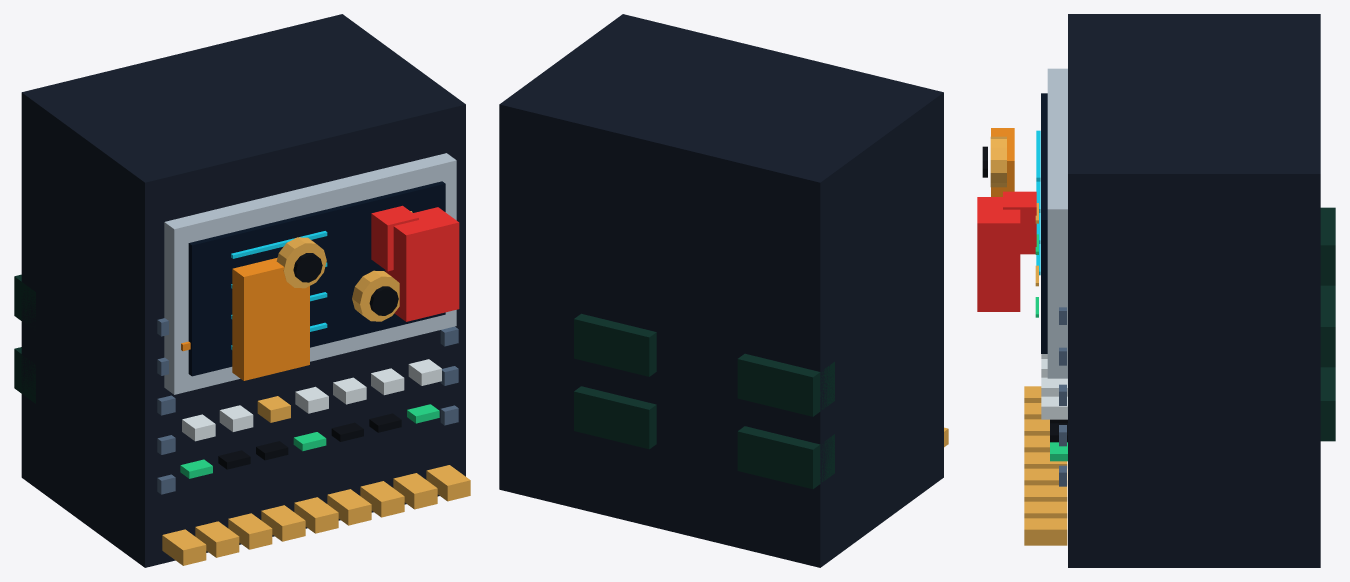
Rendered from 84_L91_EphemerisMismatchFaultInjector.fbx.
3 renders of one model, left to right at view 1: azimuth 30°, elevation 25°; view 2: azimuth 150°, elevation 25°; view 3: azimuth 270°, elevation 25°, orthographic. The views are drawn at different scales.
Parts seen in each view (by area): view 1: L91_EphemerisMismatchFaultInjector, L91_EphemerisMismatchFaultInjector_Part_0013, L91_EphemerisMismatchFaultInjector_Part_0017, L91_EphemerisMismatchFaultInjector_Part_0015, L91_EphemerisMismatchFaultInjector_Part_0016, L91_EphemerisMismatchFaultInjector_Part_0018; view 2: L91_EphemerisMismatchFaultInjector; view 3: L91_EphemerisMismatchFaultInjector, L91_EphemerisMismatchFaultInjector_Part_0013, L91_EphemerisMismatchFaultInjector_Part_0015.
Boxes of the visible parts, x1,y1,x2,y2 form: L91_EphemerisMismatchFaultInjector: (14, 14, 470, 567); L91_EphemerisMismatchFaultInjector_Part_0013: (385, 207, 459, 321); L91_EphemerisMismatchFaultInjector_Part_0017: (352, 270, 399, 321); L91_EphemerisMismatchFaultInjector_Part_0015: (276, 237, 326, 288); L91_EphemerisMismatchFaultInjector_Part_0016: (293, 253, 322, 282); L91_EphemerisMismatchFaultInjector_Part_0018: (369, 286, 398, 315); L91_EphemerisMismatchFaultInjector: (499, 14, 948, 567); L91_EphemerisMismatchFaultInjector: (991, 14, 1335, 567); L91_EphemerisMismatchFaultInjector_Part_0013: (977, 197, 1020, 311); L91_EphemerisMismatchFaultInjector_Part_0015: (990, 136, 1006, 187).
Size of the model in its own units: 96.9 by 111 by 91.6.
